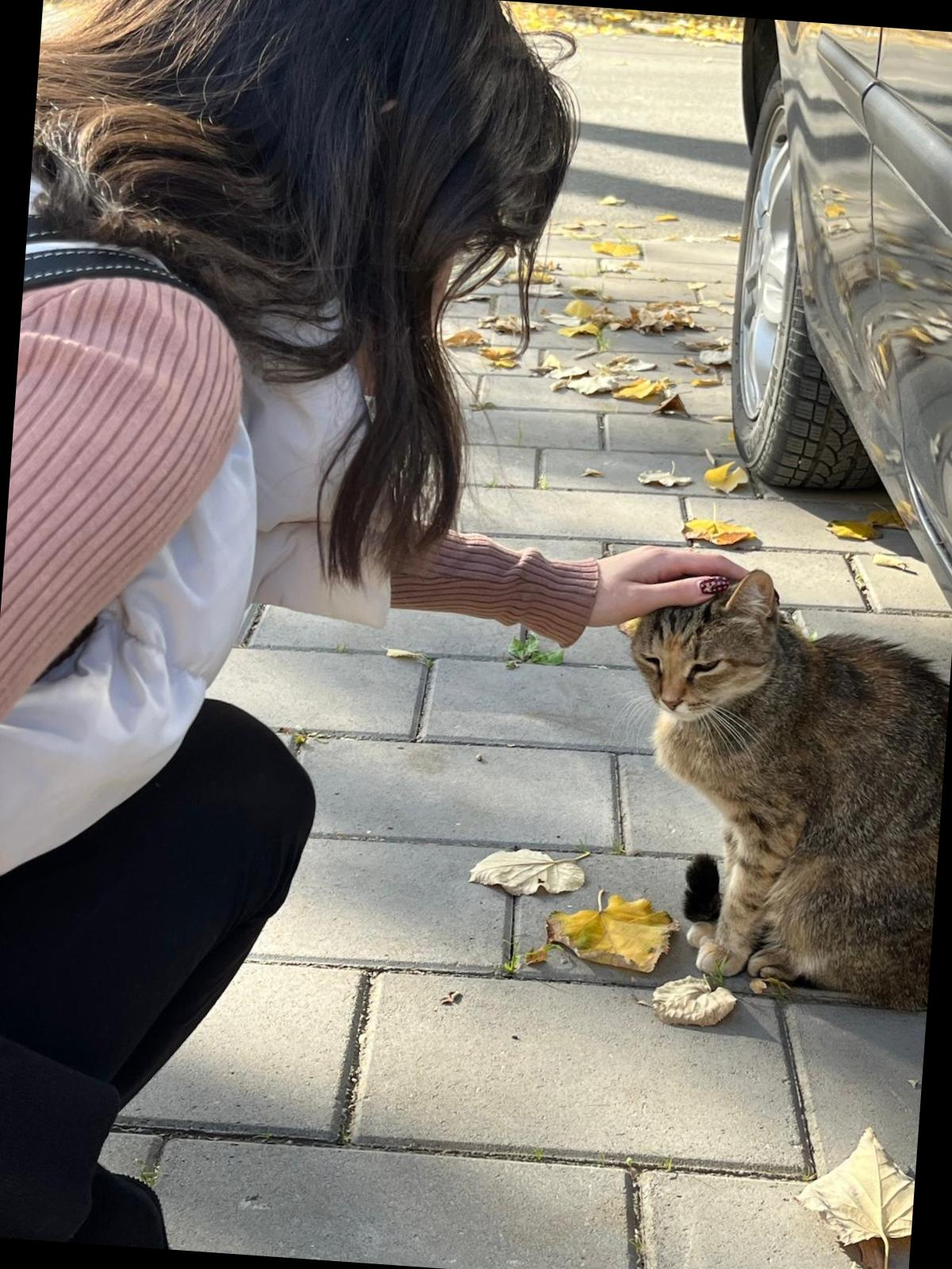macka: (606, 565, 952, 1006)
